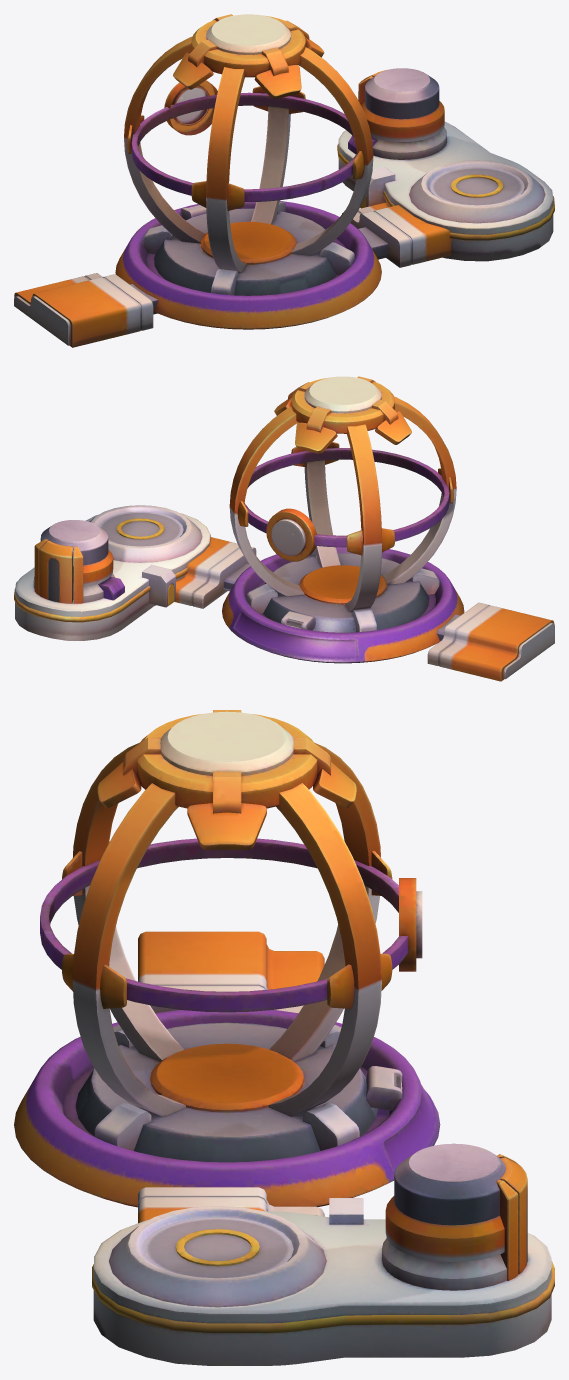
File: pref_sm_choujiangjiemian_mx01a_lv0.fbx
3 renders of one model, top to bottom at view 1: azimuth 30°, elevation 25°; view 2: azimuth 150°, elevation 25°; view 3: azimuth 270°, elevation 25°, orthographic. The views are drawn at different scales.
Parts seen in each view (by area): view 1: pref_sm_choujiangjiemian_mx01a_lv0; view 2: pref_sm_choujiangjiemian_mx01a_lv0; view 3: pref_sm_choujiangjiemian_mx01a_lv0.
Boxes of the visible parts, bbox=[...] form: pref_sm_choujiangjiemian_mx01a_lv0: bbox=[14, 14, 554, 347]; pref_sm_choujiangjiemian_mx01a_lv0: bbox=[14, 376, 554, 681]; pref_sm_choujiangjiemian_mx01a_lv0: bbox=[14, 710, 554, 1365].
Bounding box in the file's own units: 5.08 × 2.45 × 2.98.
1 material, 1 textured.
